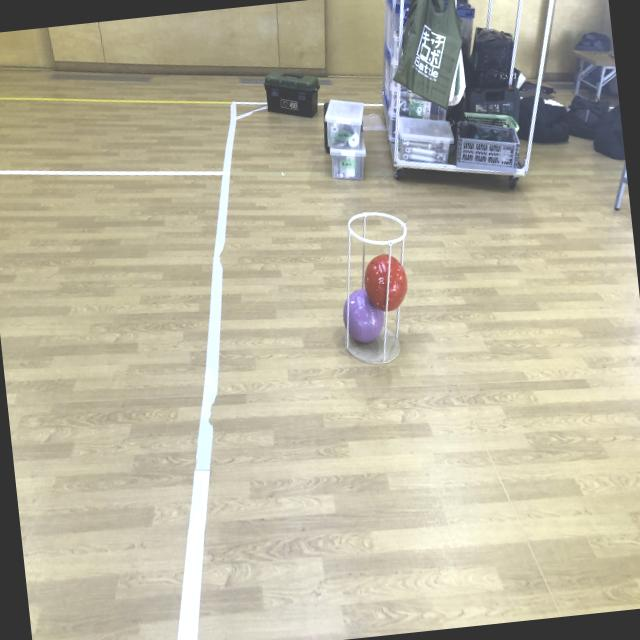purple_ball: (343, 288, 387, 344)
red_ball: (360, 252, 408, 314)
